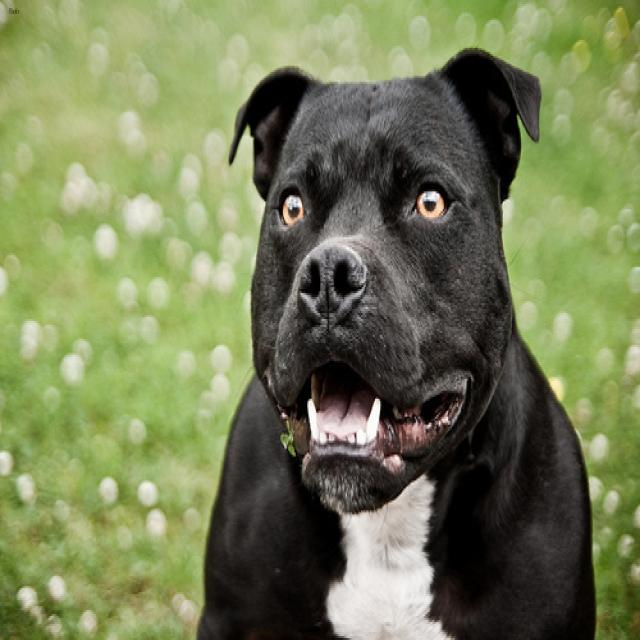dog-staffordshire_bull_terrier: (186, 36, 603, 636)
